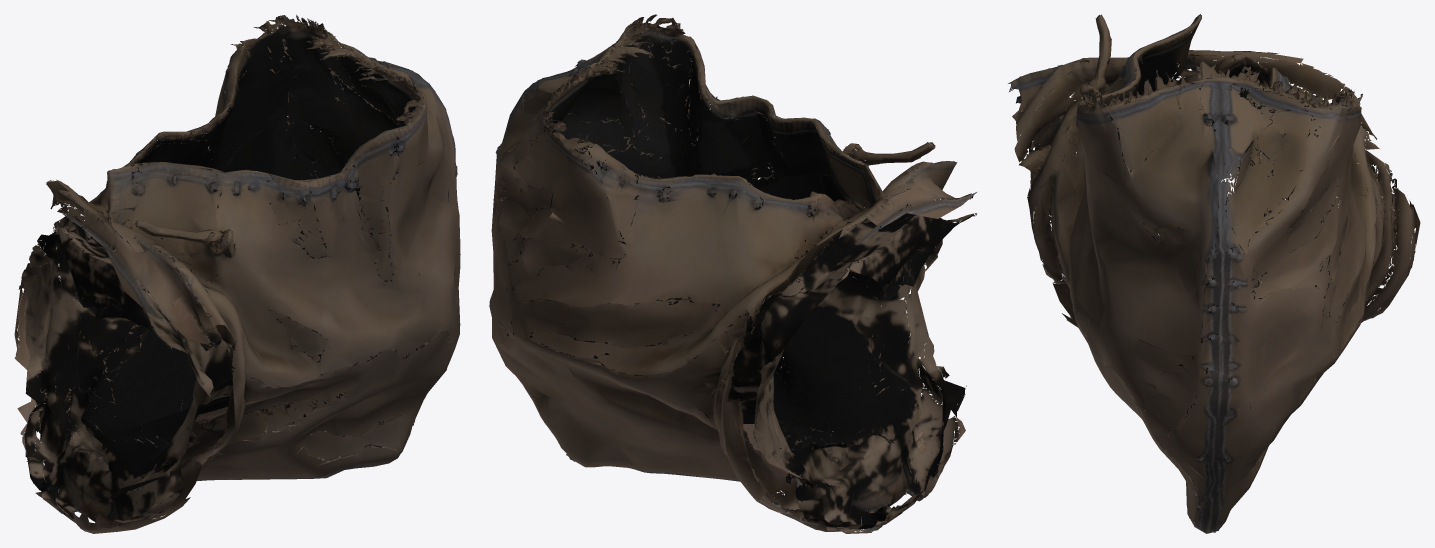
File: helmet0.glb
3 views of the same model, side by side, from view 1: azimuth 30°, elevation 25°; view 2: azimuth 150°, elevation 25°; view 3: azimuth 270°, elevation 25° (orthographic). The views are drawn at different scales.
Parts seen in each view (by area): view 1: Mesh_0; view 2: Mesh_0; view 3: Mesh_0.
Boxes of the visible parts, <box> form: Mesh_0: <box>14,14,460,533</box>; Mesh_0: <box>489,14,976,533</box>; Mesh_0: <box>1008,14,1420,533</box>.
Size of the model in its own units: 0.3867 by 0.3948 by 0.3327.
Materials: 1 (1 with a texture image).
